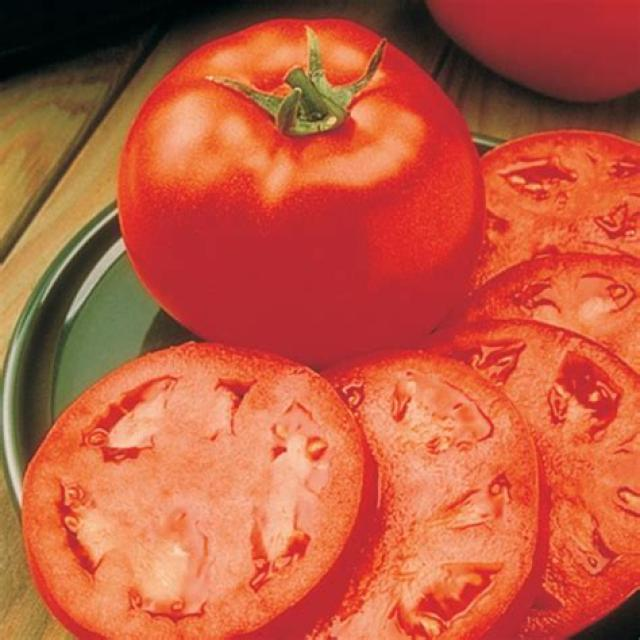Tomato: (117, 19, 486, 372)
